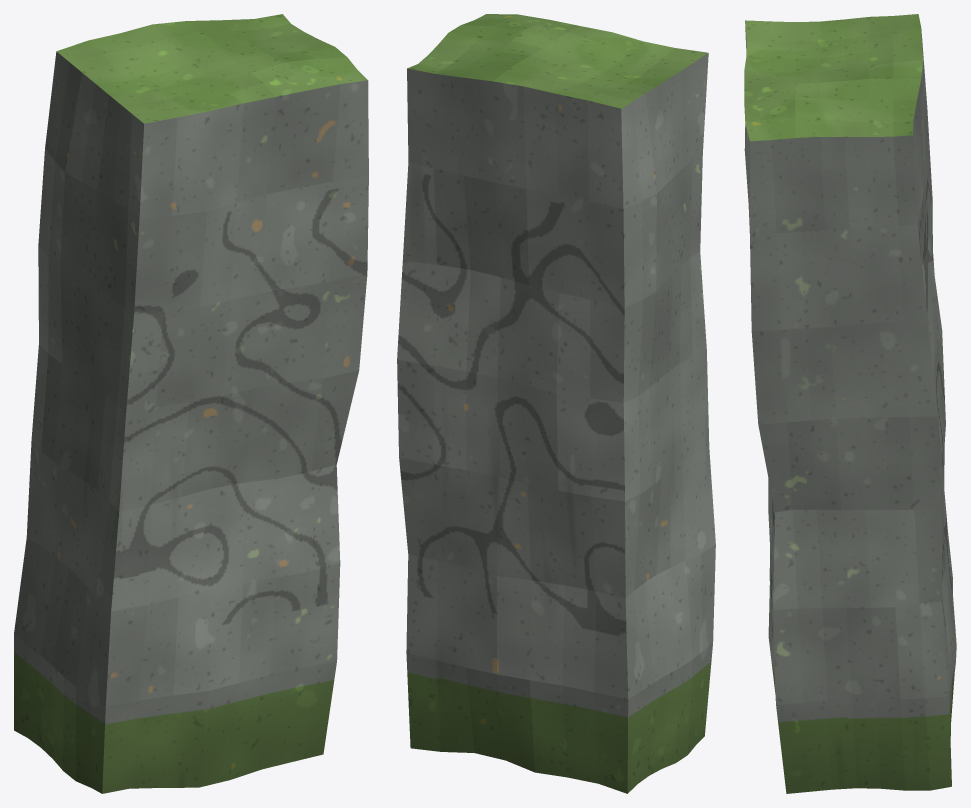
File: standing_stone.glb
3 renders of one model, left to right at view 1: azimuth 30°, elevation 25°; view 2: azimuth 150°, elevation 25°; view 3: azimuth 270°, elevation 25°, orthographic. The views are drawn at different scales.
Parts seen in each view (by area): view 1: Stone; view 2: Stone; view 3: Stone.
Boxes of the visible parts, box(x1,y1,x2,y2) form: Stone: box(14, 14, 368, 793); Stone: box(397, 14, 715, 793); Stone: box(744, 14, 956, 793).
Bounding box in the file's own units: 1.01 × 2.67 × 0.7461.
Materials: 1 (1 with a texture image).
